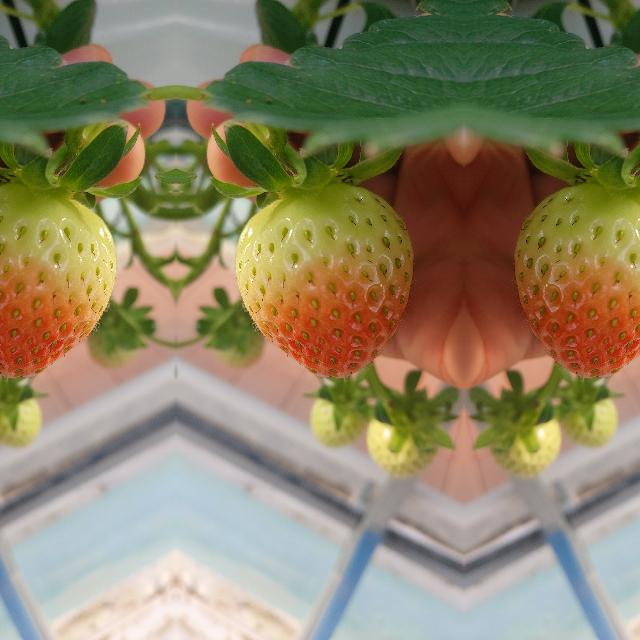Health_50: (234, 183, 412, 377), (514, 183, 640, 377), (0, 183, 115, 377)
